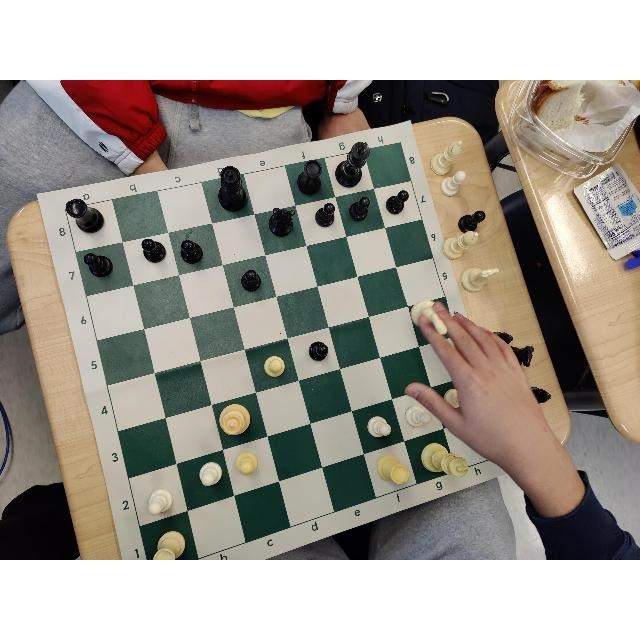black-king: (336, 141, 370, 189)
black-knight: (269, 207, 295, 238)
black-pawn: (84, 253, 112, 279), (142, 238, 166, 262), (179, 240, 202, 264), (385, 190, 408, 214), (314, 202, 336, 227), (349, 196, 371, 221), (240, 268, 261, 291), (309, 342, 329, 362)
black-queen: (217, 166, 247, 212)
black-rook: (66, 198, 106, 234), (297, 159, 321, 196)
white-king: (421, 442, 469, 478)
white-knight: (411, 300, 447, 336)
white-pawn: (148, 488, 174, 515), (406, 406, 432, 428), (367, 415, 391, 438), (200, 462, 222, 486), (264, 356, 286, 378), (236, 452, 258, 474), (444, 387, 460, 408)
white-queen: (219, 404, 251, 436)
white-rook: (377, 453, 409, 484), (154, 530, 186, 560)
